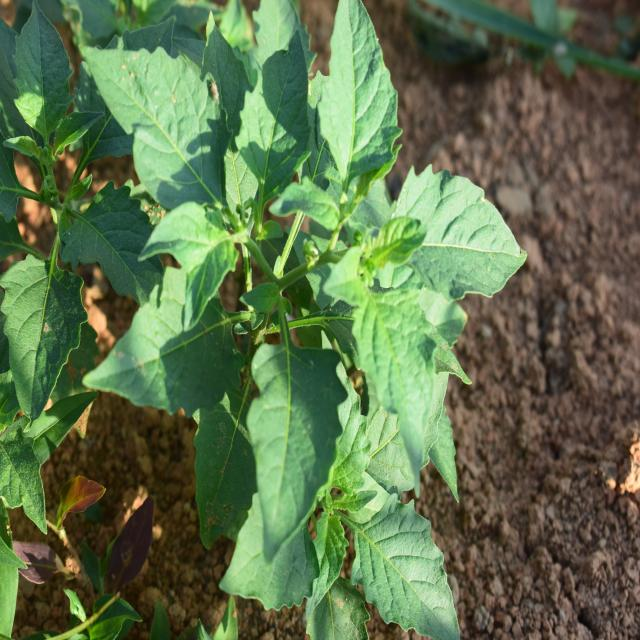Black_nightshade: (139, 34, 477, 593)
